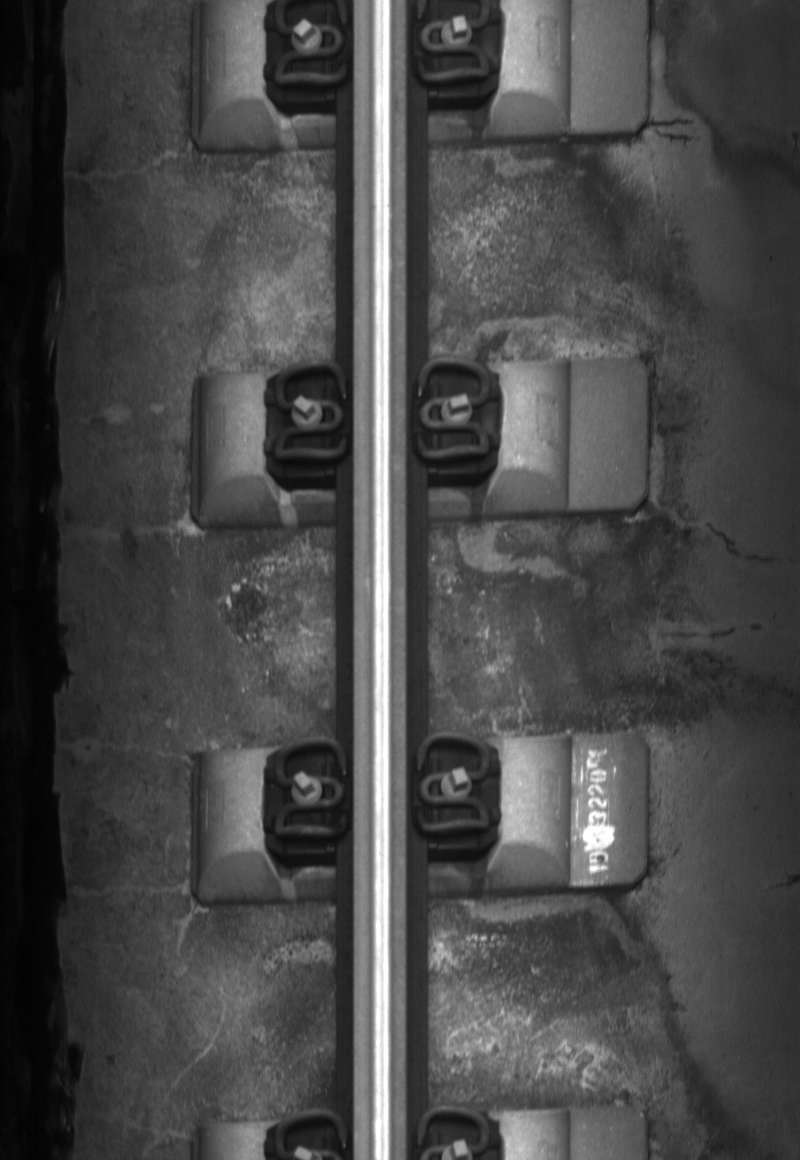l_faster: (267, 732, 352, 851), (267, 355, 352, 468)
r_faster: (412, 729, 494, 841), (412, 354, 494, 464)
